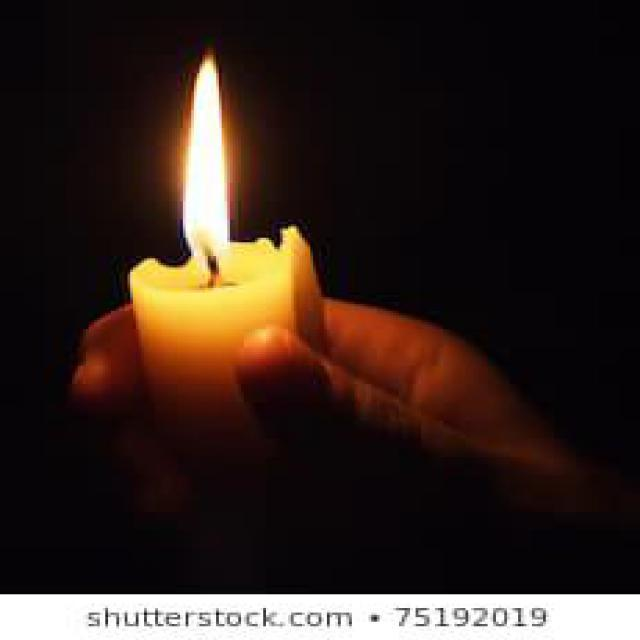Fire: (182, 60, 232, 274)
